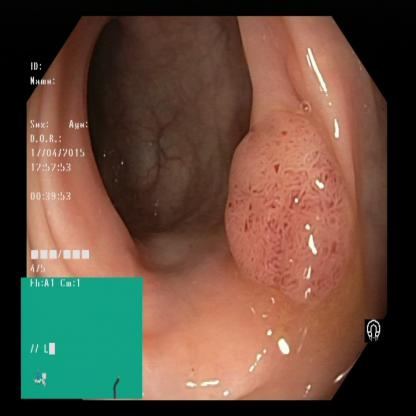Labels: (18, 279, 146, 400), (30, 54, 93, 276), (360, 312, 386, 348)
Polyps: (230, 108, 353, 303)
